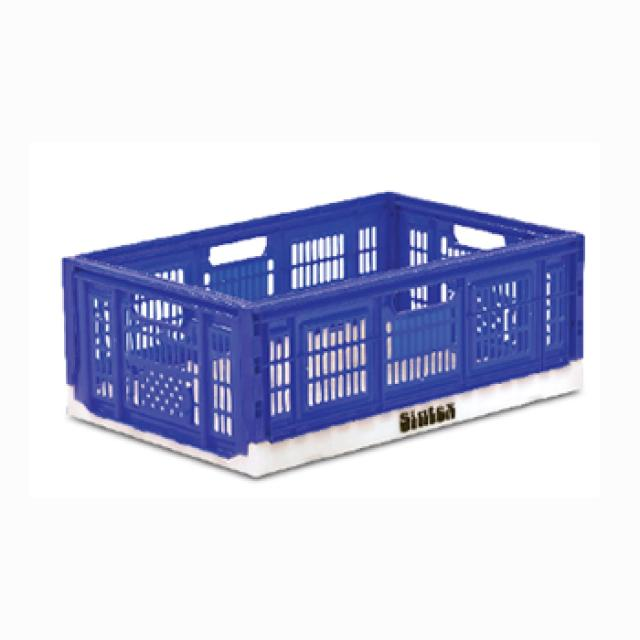basket: (42, 164, 614, 505)
